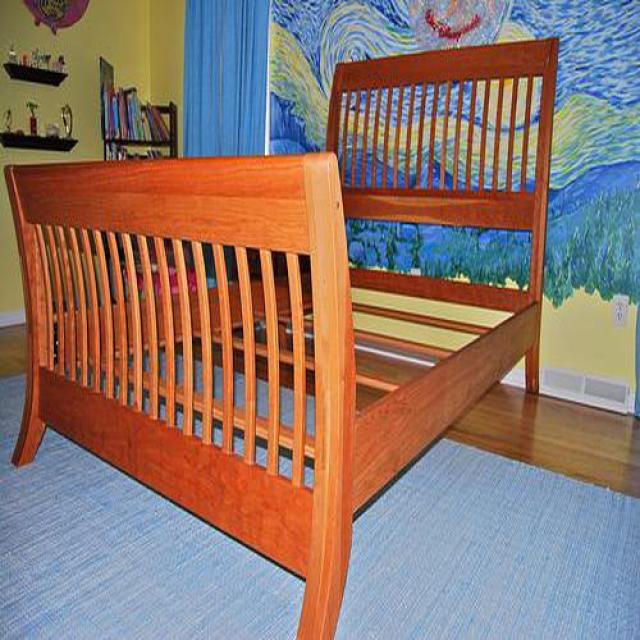bed: (3, 40, 558, 640)
